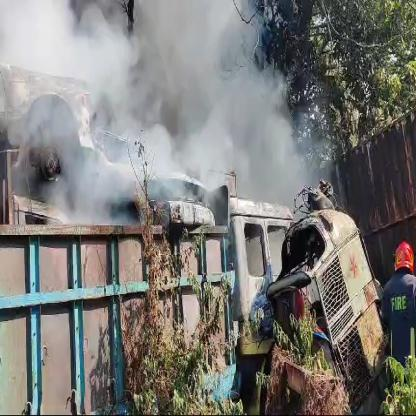Smoke: (0, 0, 323, 248)
